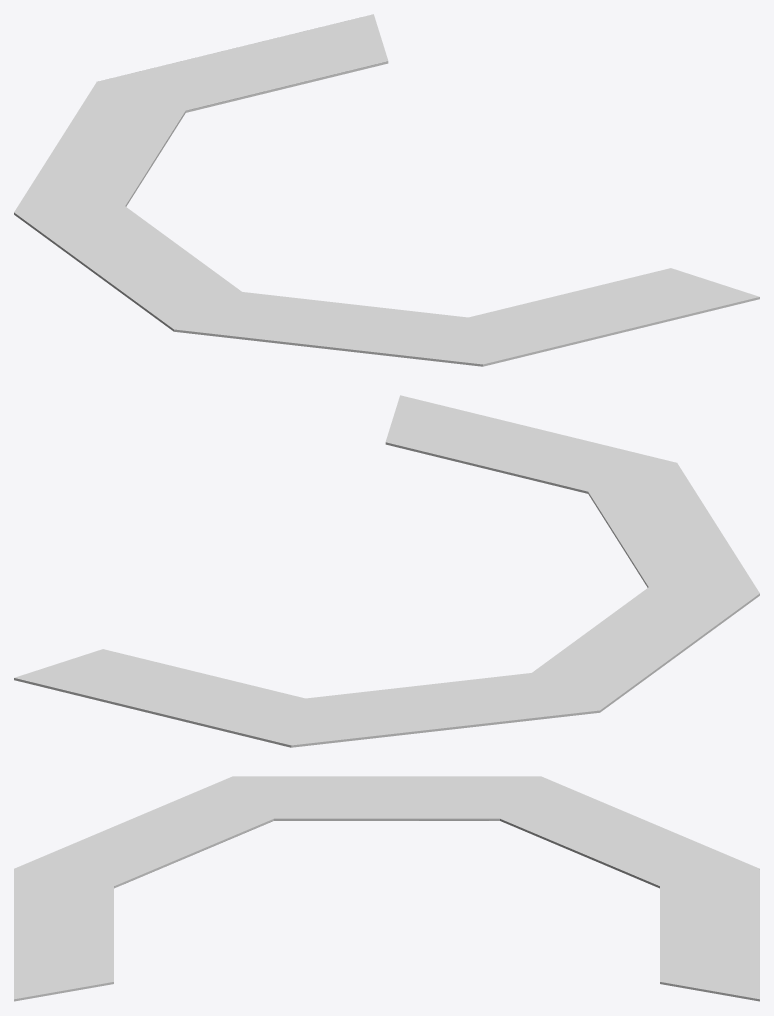
Rendered from Step ke portal 1.fbx.
The picture shows the model from 3 angles, top to bottom: view 1: azimuth 30°, elevation 25°; view 2: azimuth 150°, elevation 25°; view 3: azimuth 270°, elevation 25°; orthographic projection. The views are drawn at different scales.
Visible parts, largest first — view 1: Step ke portal 1_Baked; view 2: Step ke portal 1_Baked; view 3: Step ke portal 1_Baked.
Part boxes in pixels (x1,y1,x2,y2): Step ke portal 1_Baked: (14,14,759,366); Step ke portal 1_Baked: (14,395,759,747); Step ke portal 1_Baked: (14,776,759,1001).
Size of the model in its own units: 3266 by 15 by 4619.
Materials: 1 (1 with a texture image).
